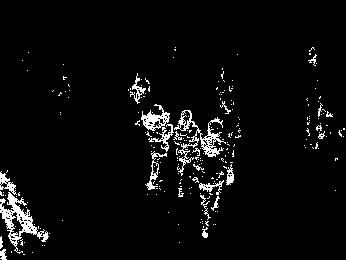person: (197, 118, 236, 239), (140, 102, 174, 193), (173, 108, 203, 197)
